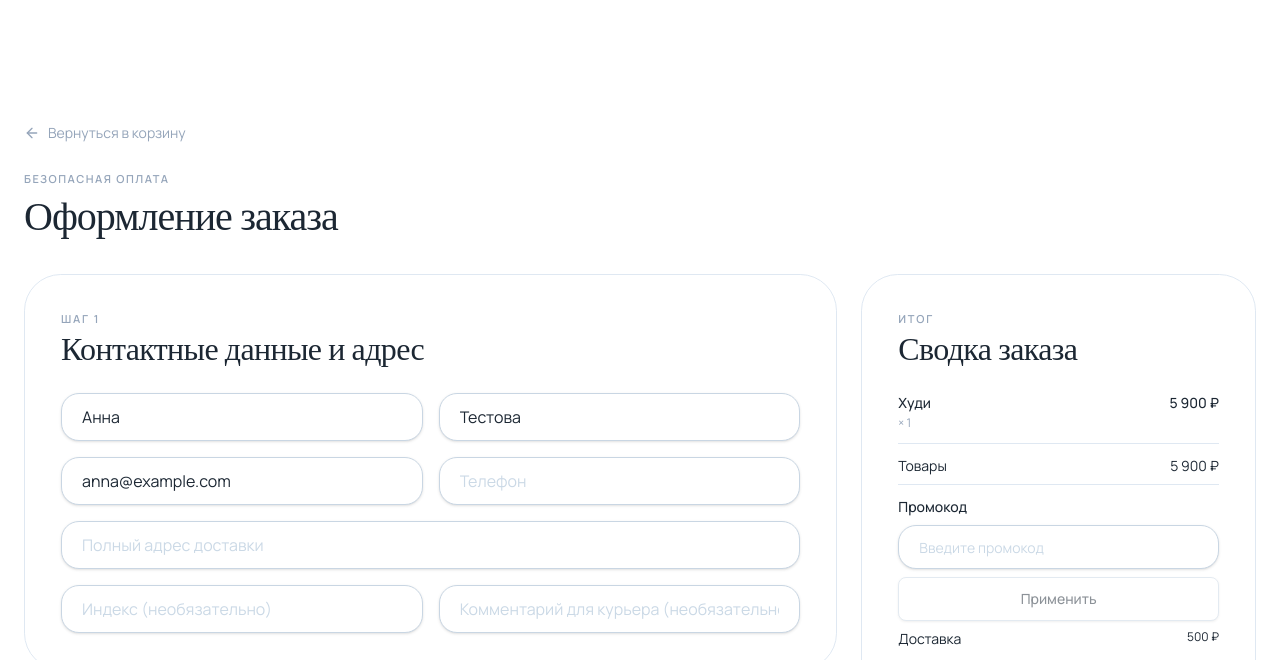
Checkout — saved addresses › a bad postal code is refused in the form before anything is sent
The width and height of the screenshot is (1280, 660).
Type "+79990001122" into the field with placeholder "Телефон".
click(620, 481); type("+79990001122")  # box x1=439 y1=457 x2=800 y2=505
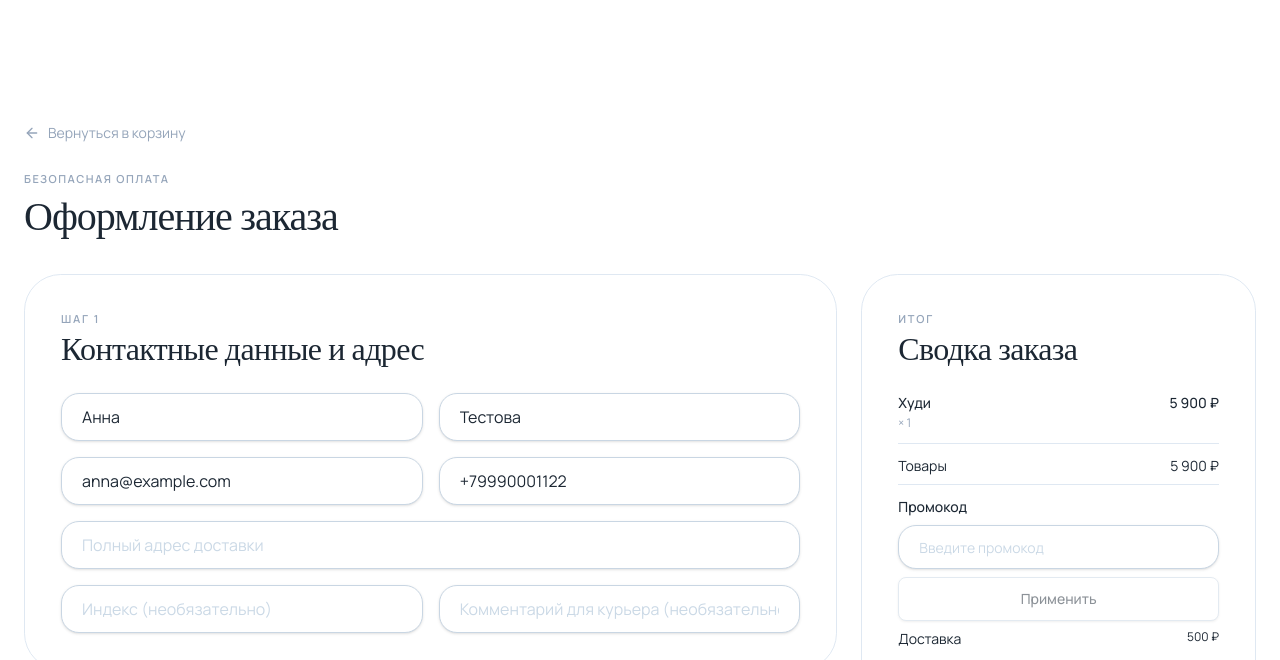
Type "Москва, Тверская 1" into the field with placeholder "Полный адрес доставки".
click(431, 545); type("Москва, Тверская 1")  # box x1=61 y1=521 x2=800 y2=569
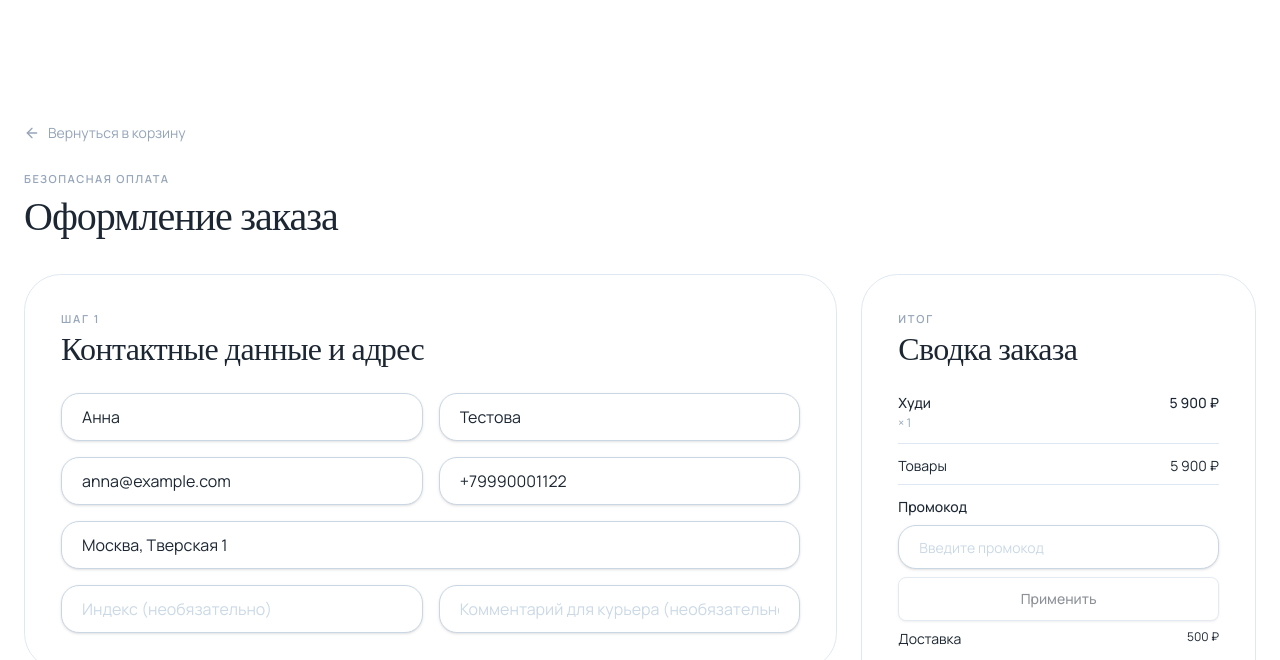
Type "10<1>" into the field with test id "checkout-postal-code".
click(242, 609); type("10<1>")  # box x1=61 y1=585 x2=423 y2=633
(page scrolled)
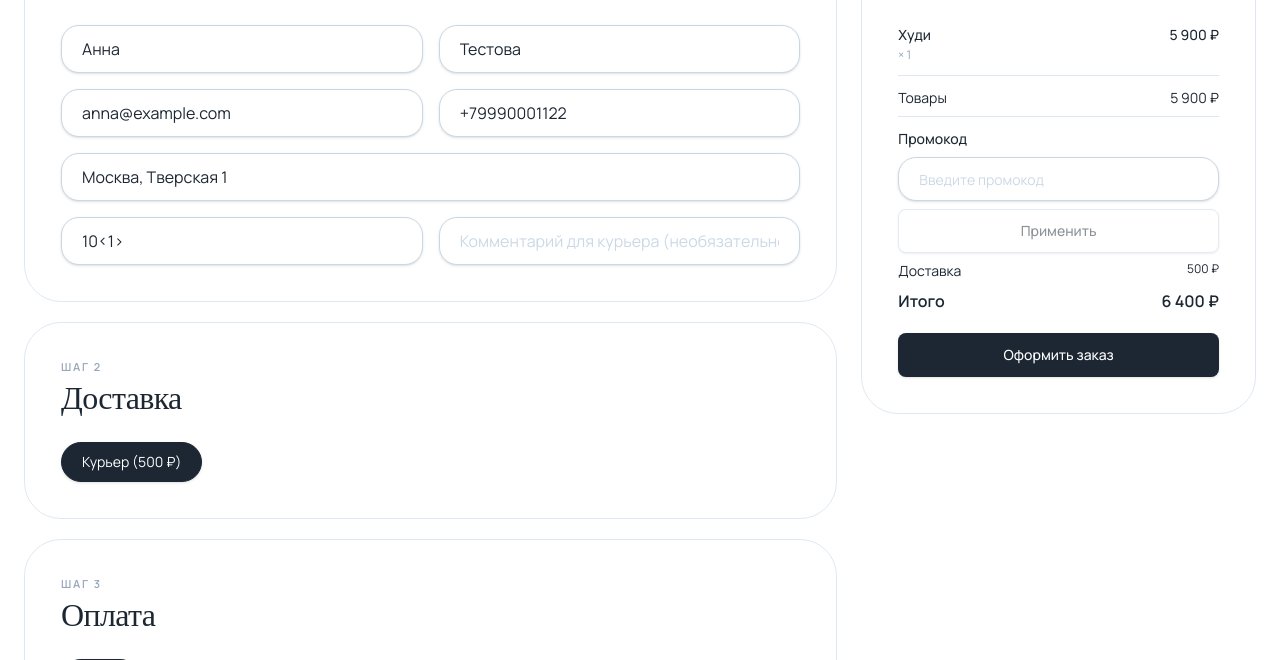
Expected: the button "Курьер (500 ₽)" is shown, x1=61 y1=442 x2=202 y2=482
Click the button "Оформить заказ".
click(1059, 355)  # box x1=898 y1=333 x2=1219 y2=377
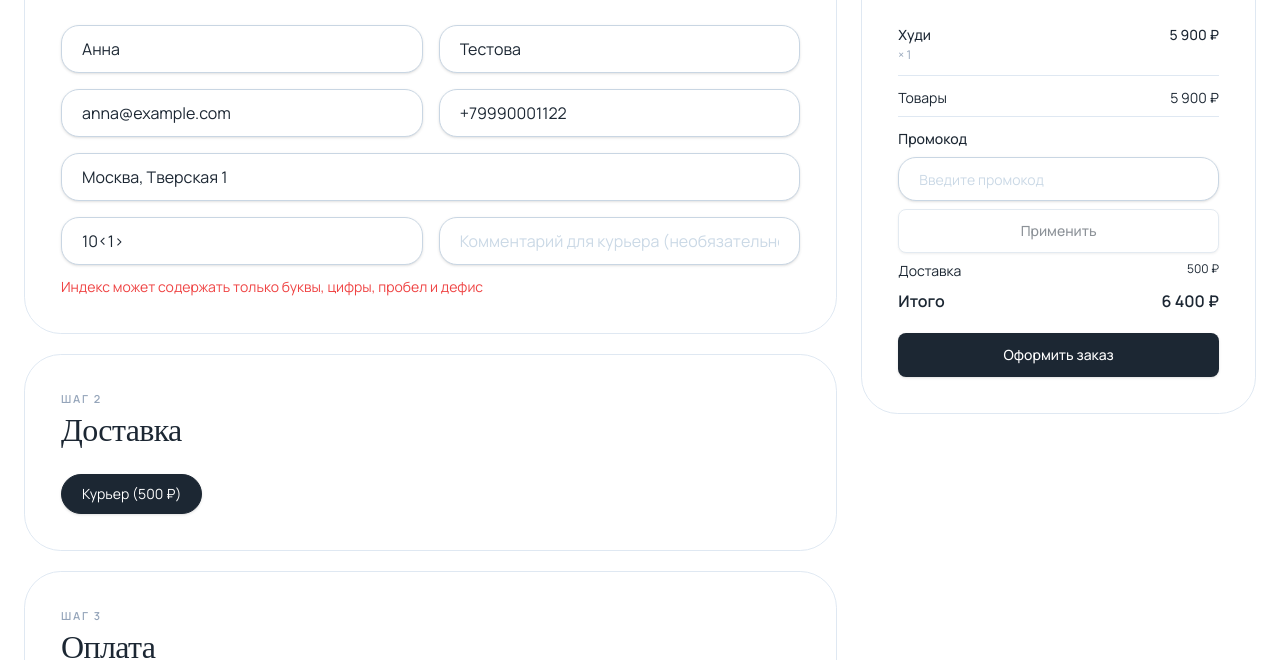
Now the message shows "Индекс", box x1=61 y1=277 x2=483 y2=296
